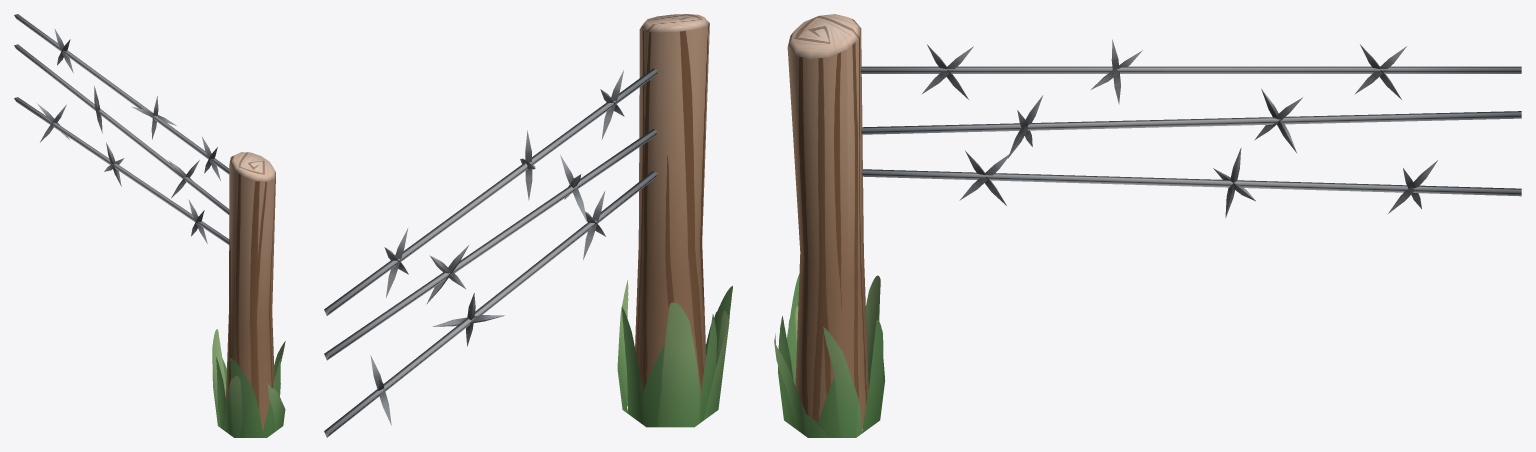
Rendered from Hek_01.fbx.
3 renders of one model, left to right at view 1: azimuth 30°, elevation 25°; view 2: azimuth 150°, elevation 25°; view 3: azimuth 270°, elevation 25°, orthographic. The views are drawn at different scales.
Parts seen in each view (by area): view 1: Hek_01; view 2: Hek_01; view 3: Hek_01.
Part boxes in pixels (<box>): Hek_01: <box>14,14,285,437</box>; Hek_01: <box>324,14,732,437</box>; Hek_01: <box>774,14,1521,437</box>.
Bounding box in the file's own units: 1.69 × 6.38 × 11.04.
